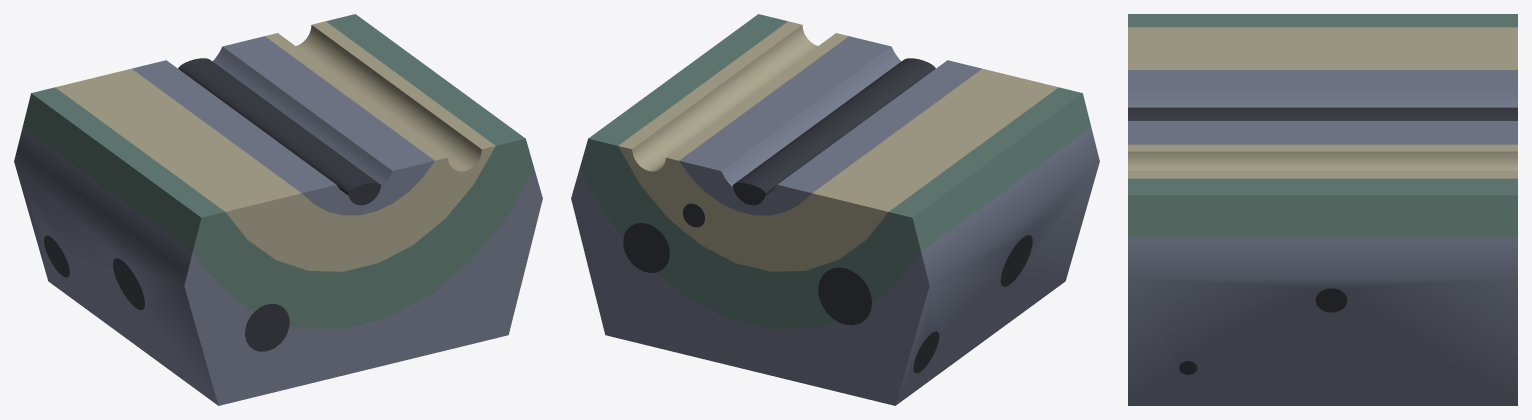
File: Junk5.fbx
The picture shows the model from 3 angles, left to right: view 1: azimuth 30°, elevation 25°; view 2: azimuth 150°, elevation 25°; view 3: azimuth 270°, elevation 25°; orthographic projection. The views are drawn at different scales.
Visible parts, largest first — view 1: Model; view 2: Model; view 3: Model.
Boxes of the visible parts, box(x1,y1,x2,y2) form: Model: box(14, 14, 542, 405); Model: box(571, 14, 1099, 405); Model: box(1128, 14, 1517, 405).
Bounding box in the file's own units: 52.65 × 26.99 × 43.29.
